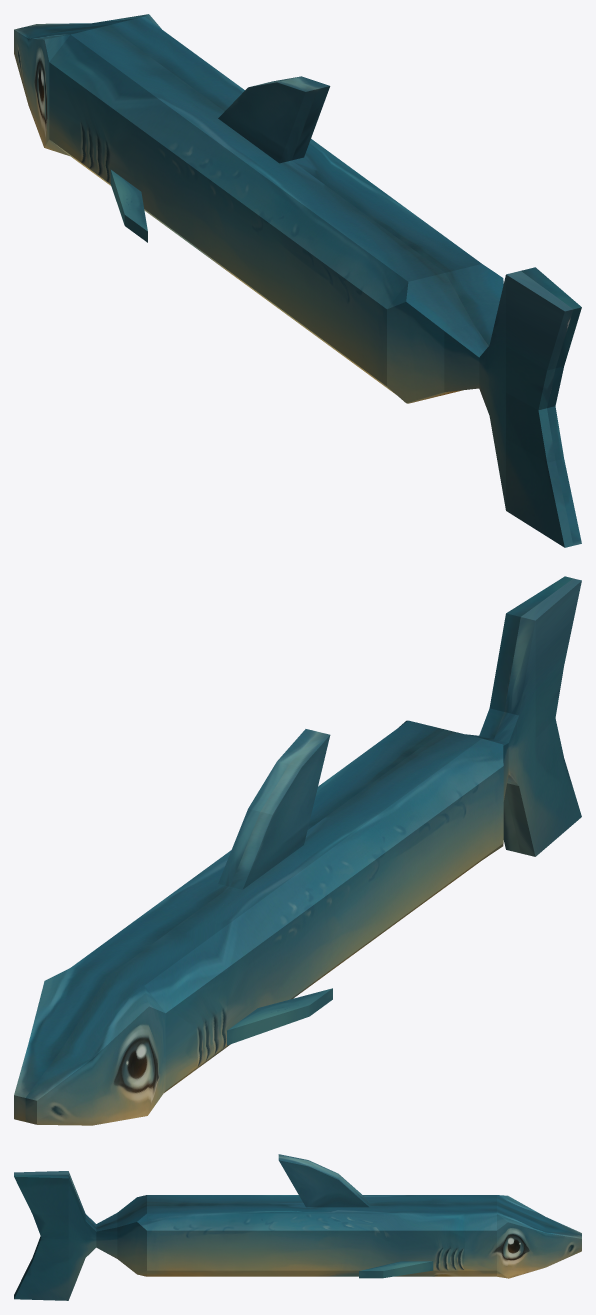
The model's file is QuickShark.fbx.
3 renders of one model, top to bottom at view 1: azimuth 30°, elevation 25°; view 2: azimuth 150°, elevation 25°; view 3: azimuth 270°, elevation 25°, orthographic. The views are drawn at different scales.
Visible parts, largest first — view 1: Shark; view 2: Shark; view 3: Shark.
Boxes of the visible parts, x1=… form: Shark: x1=14, y1=14, x2=581, y2=547; Shark: x1=14, y1=576, x2=581, y2=1125; Shark: x1=14, y1=1154, x2=581, y2=1300.
Bounding box in the file's own units: 558 × 778 × 2863.
Materials: 1 (1 with a texture image).
